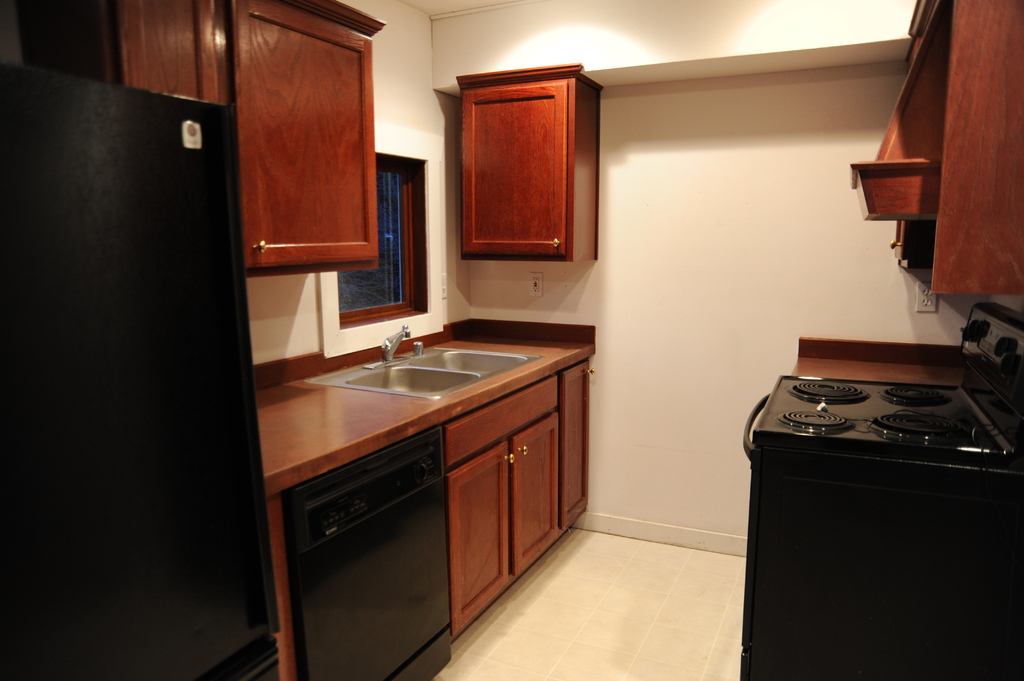cabinet door: (237, 15, 378, 256), (459, 90, 570, 255), (457, 446, 513, 606), (508, 432, 550, 547), (556, 371, 584, 513)
handle: (244, 236, 267, 256), (500, 449, 520, 472), (518, 437, 534, 461), (546, 232, 564, 251)
refrigerator door: (1, 78, 237, 672)
